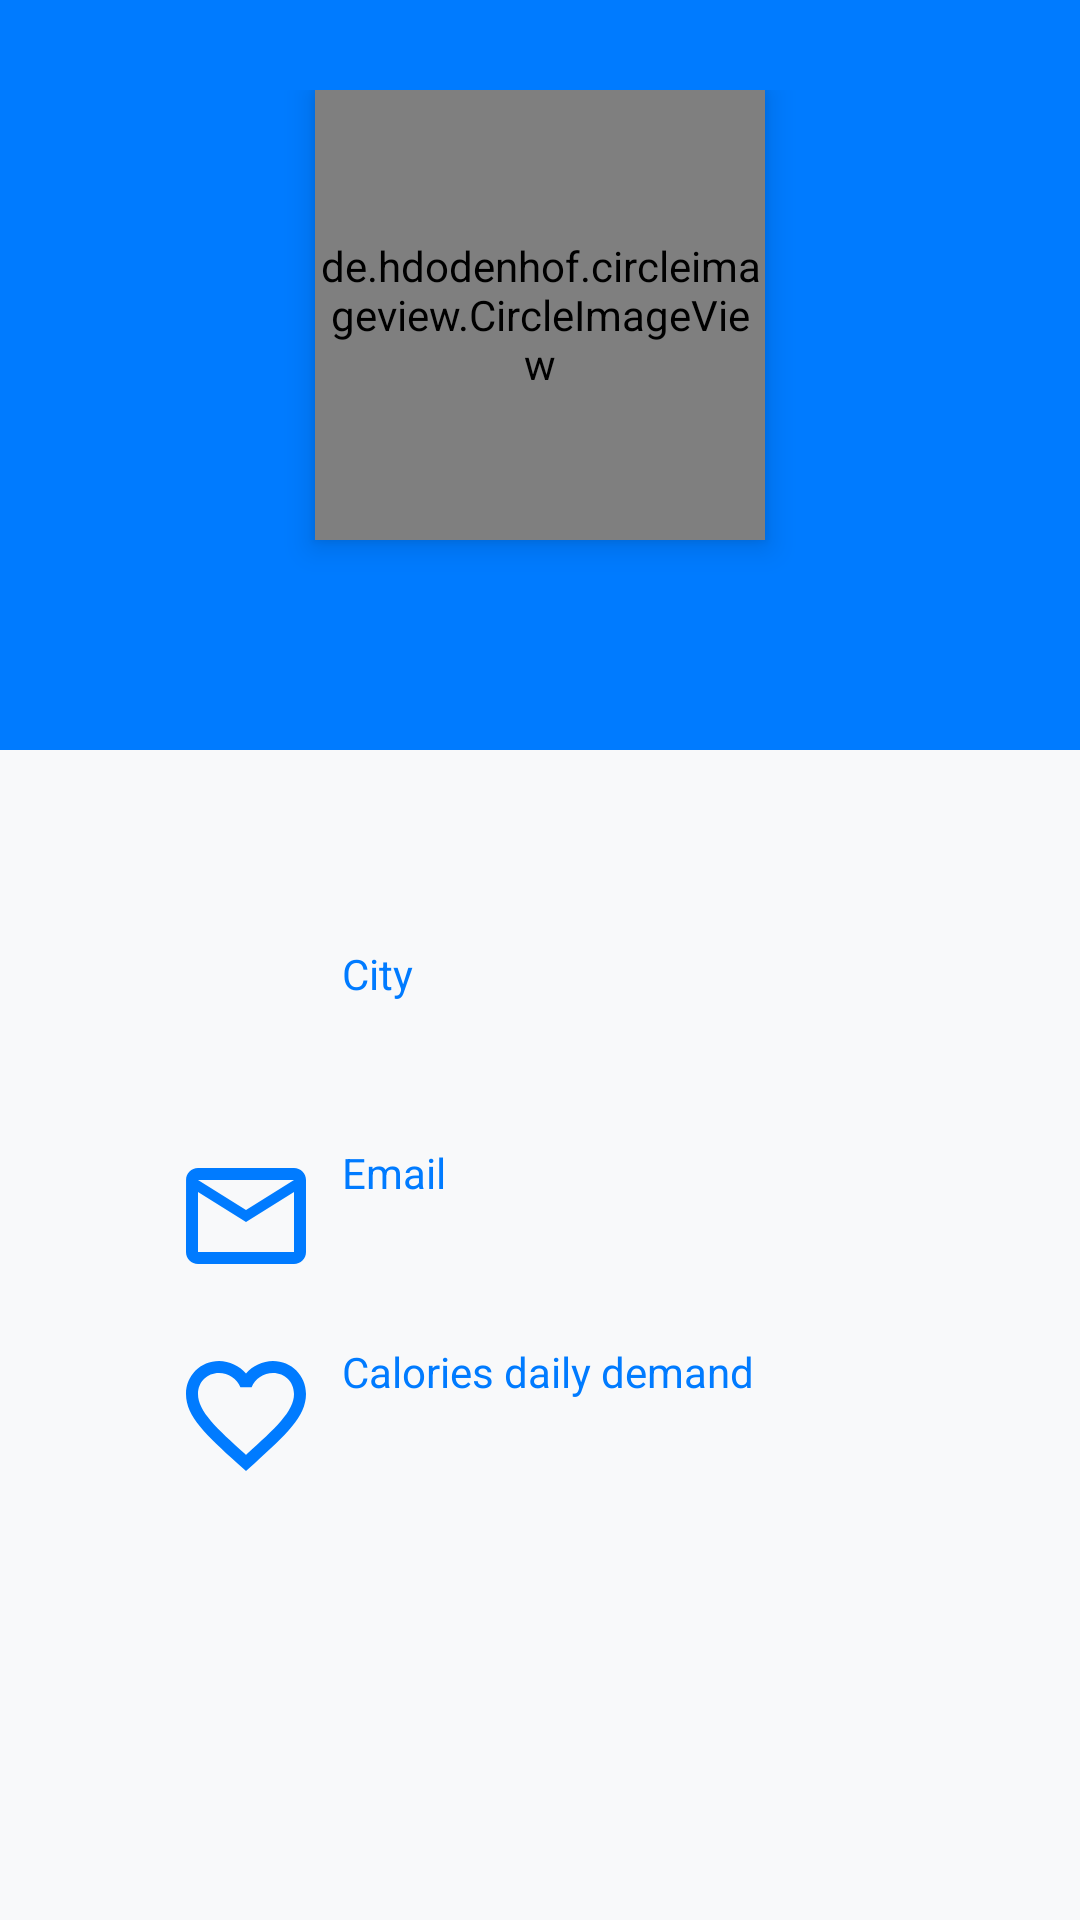

Named icons in this screenshot (1080 x 1920) and their centers, (x=x, y=y):
hearth: (x=246, y=1416)
